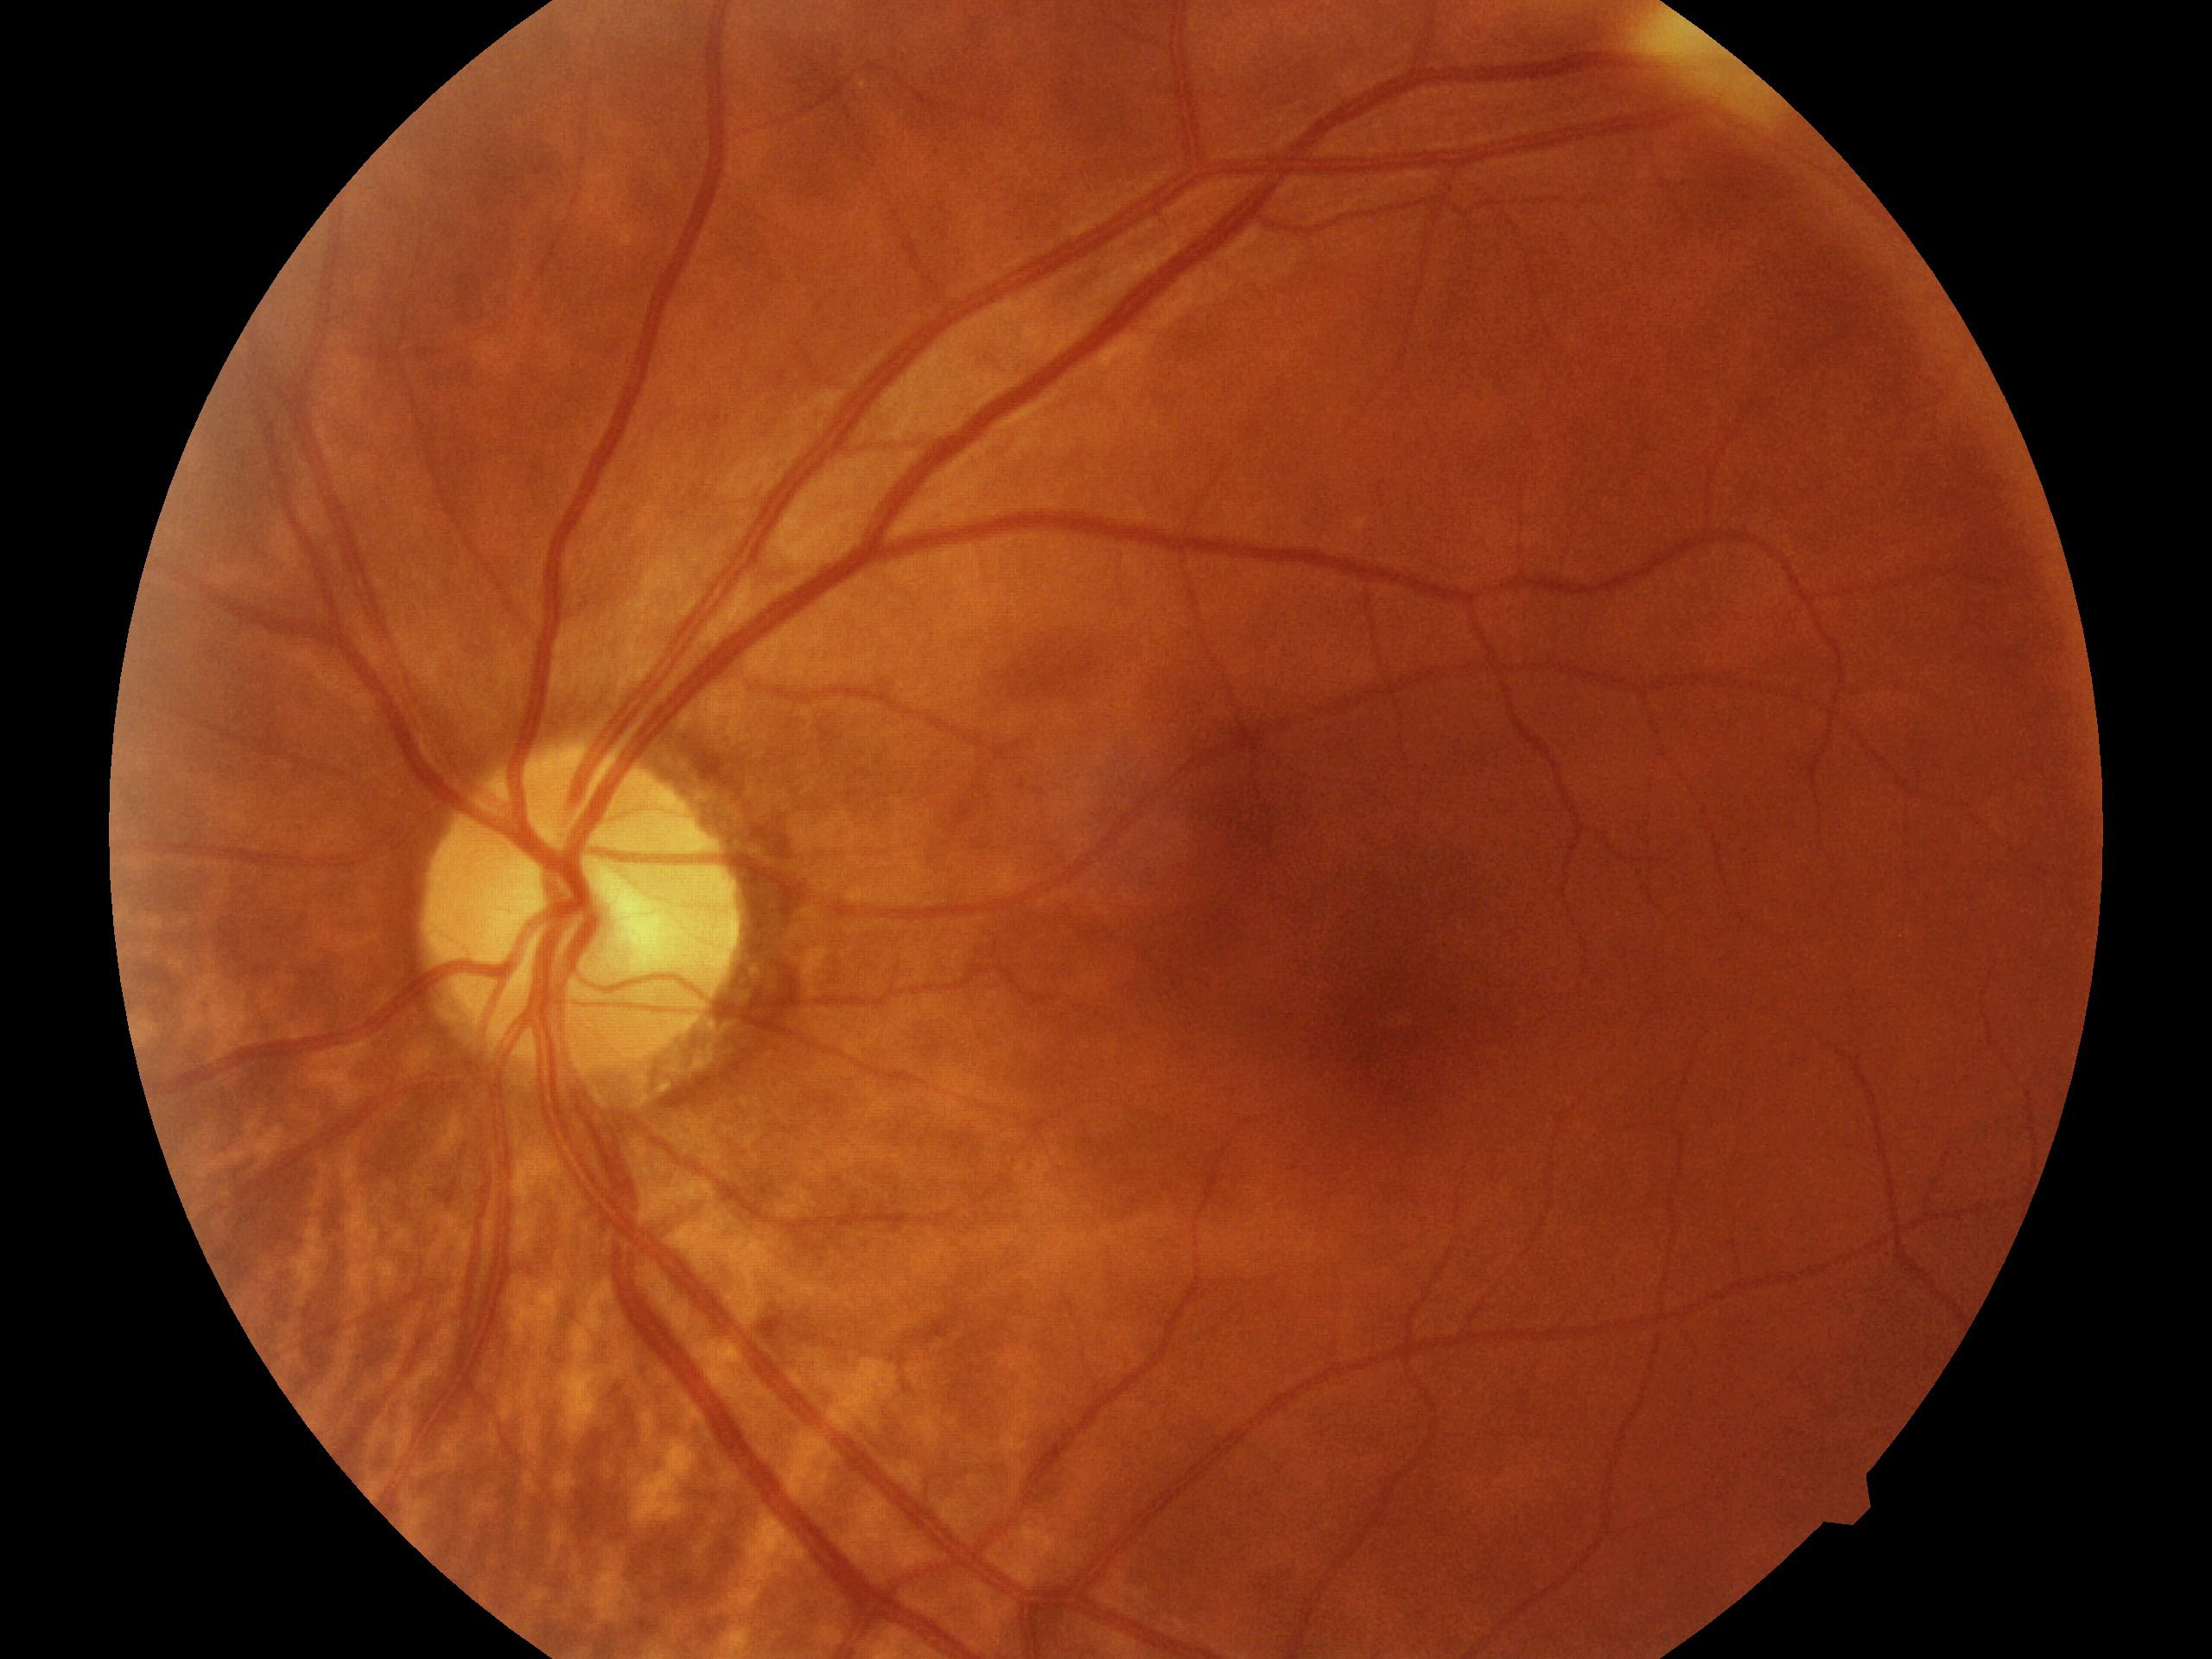Hemorrhages: (1186, 732, 1480, 1105)
Optic-Disc: (427, 716, 751, 1108)
Venules: (796, 139, 1211, 598), (604, 1185, 921, 1603)
